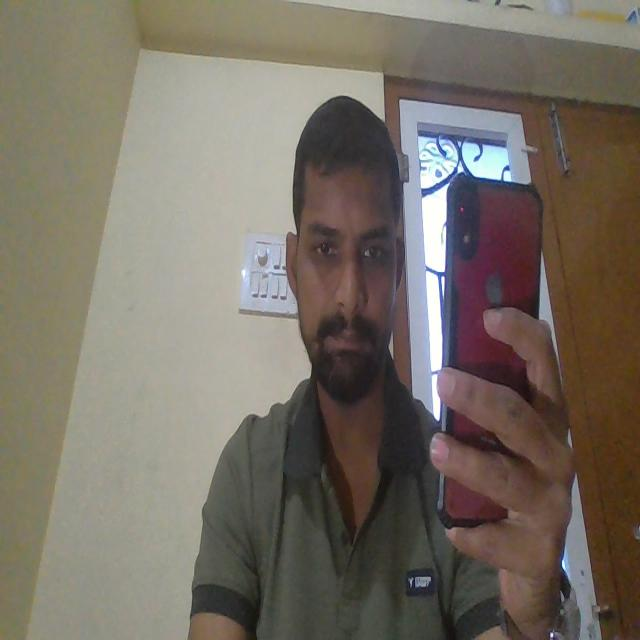phone: (446, 174, 545, 316)
